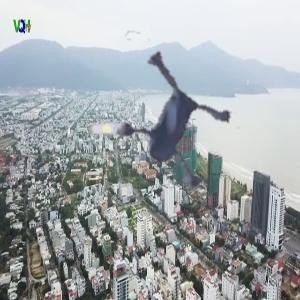drone: (57, 23, 253, 219)
